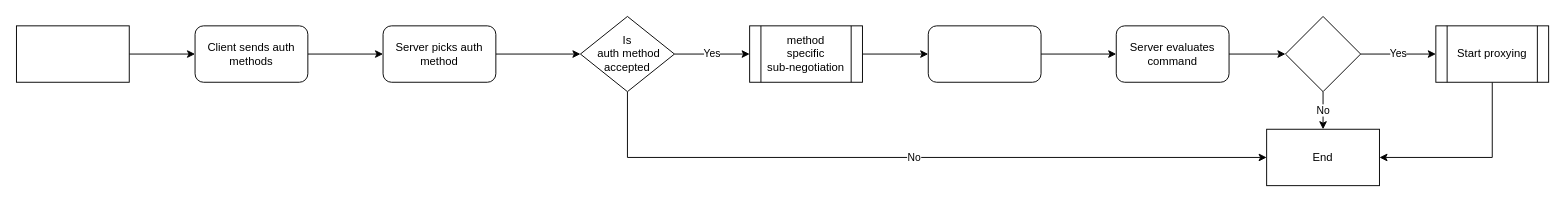
This 1565x202 diagram has some shape labels left out. The centre of each missing label's shape, as x and y in pixels:
Client sends command: (984,53)
Is command successful: (1323,54)
Start: (72,53)
